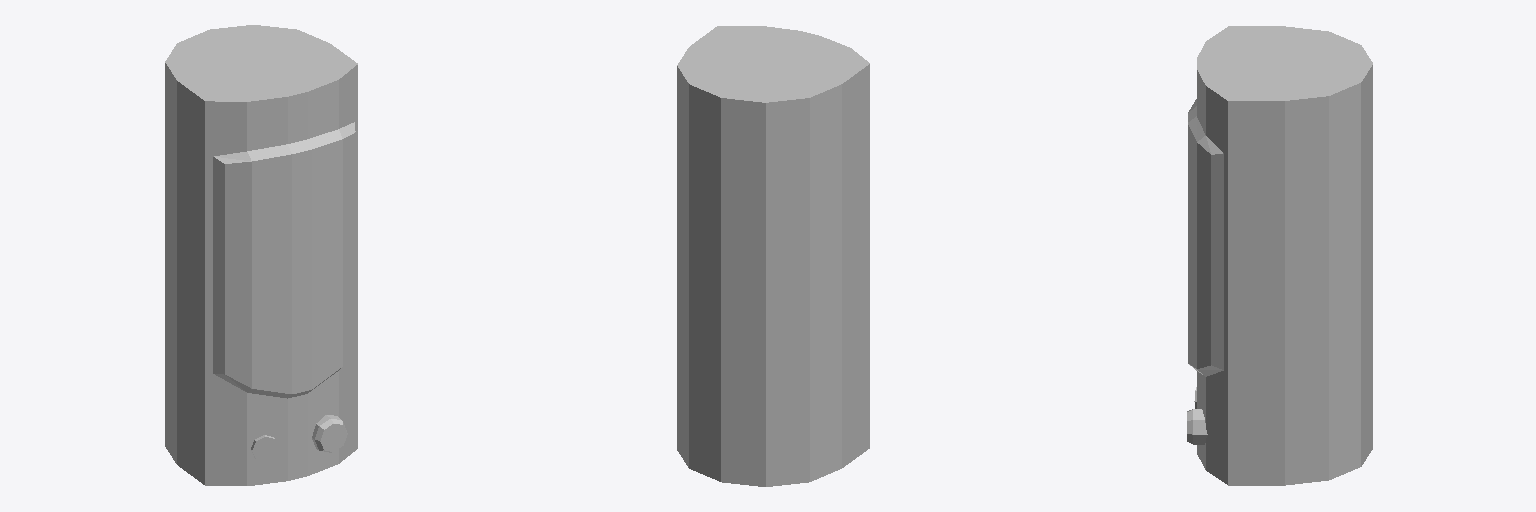
The model's file is pc_speaker_1_right.obj.
3 views of the same model, side by side, from view 1: azimuth 30°, elevation 25°; view 2: azimuth 150°, elevation 25°; view 3: azimuth 270°, elevation 25° (orthographic).
Visible parts, largest first — view 1: pc_speaker_1_right; view 2: pc_speaker_1_right; view 3: pc_speaker_1_right.
Boxes of the visible parts, box(x1,y1,x2,y2) form: pc_speaker_1_right: box(165, 25, 357, 485); pc_speaker_1_right: box(677, 26, 869, 486); pc_speaker_1_right: box(1187, 26, 1372, 485).
Bounding box in the file's own units: 0.1 × 0.24 × 0.1056.